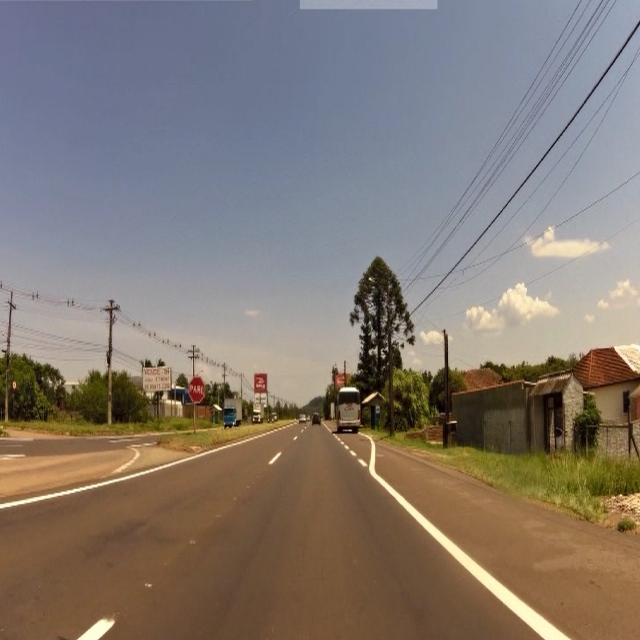R-1: (190, 377, 205, 403)
